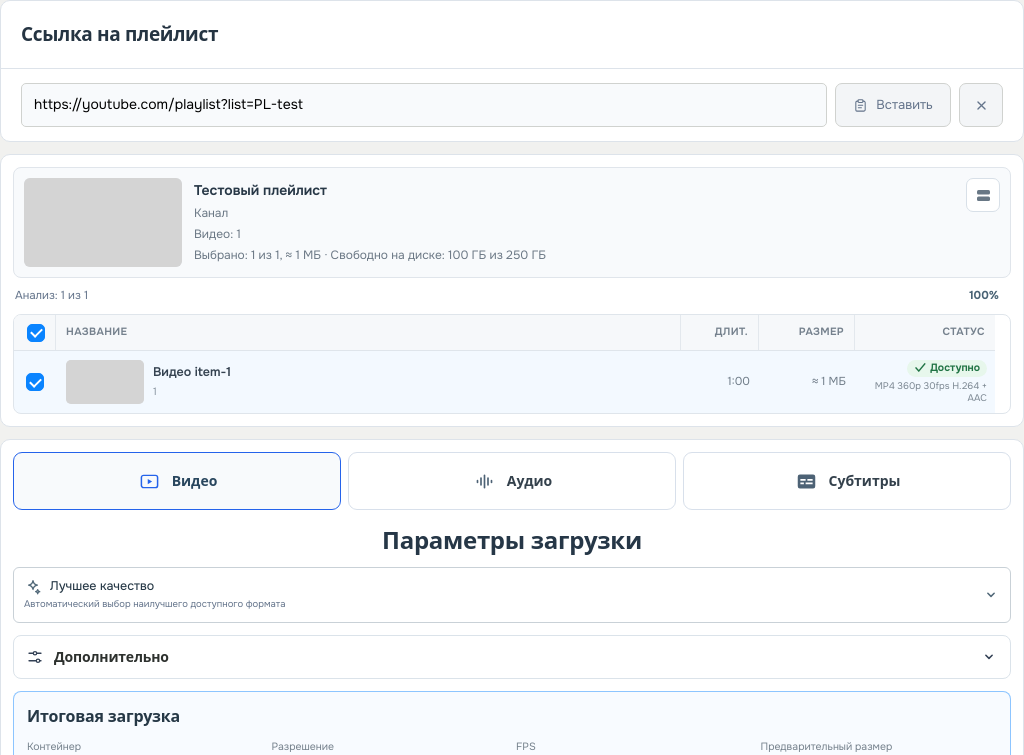
Test case: Playlist › applies adaptive matching to a named quality profile
Expected: the text "Доступно" is shown, left=930, top=361, right=980, bottom=374
Click the dropdown named "Профиль скачивания".
click(102, 586)  # box left=13, top=567, right=1011, bottom=623
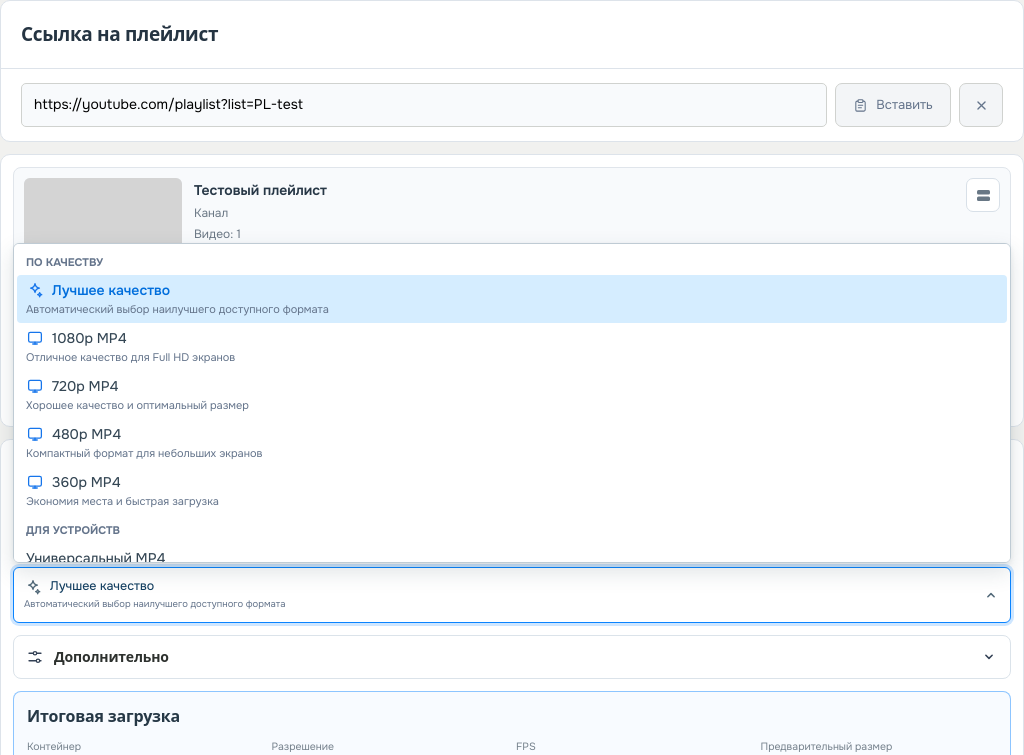
Click the text "480p MP4".
click(74, 434)  # box left=26, top=425, right=121, bottom=444
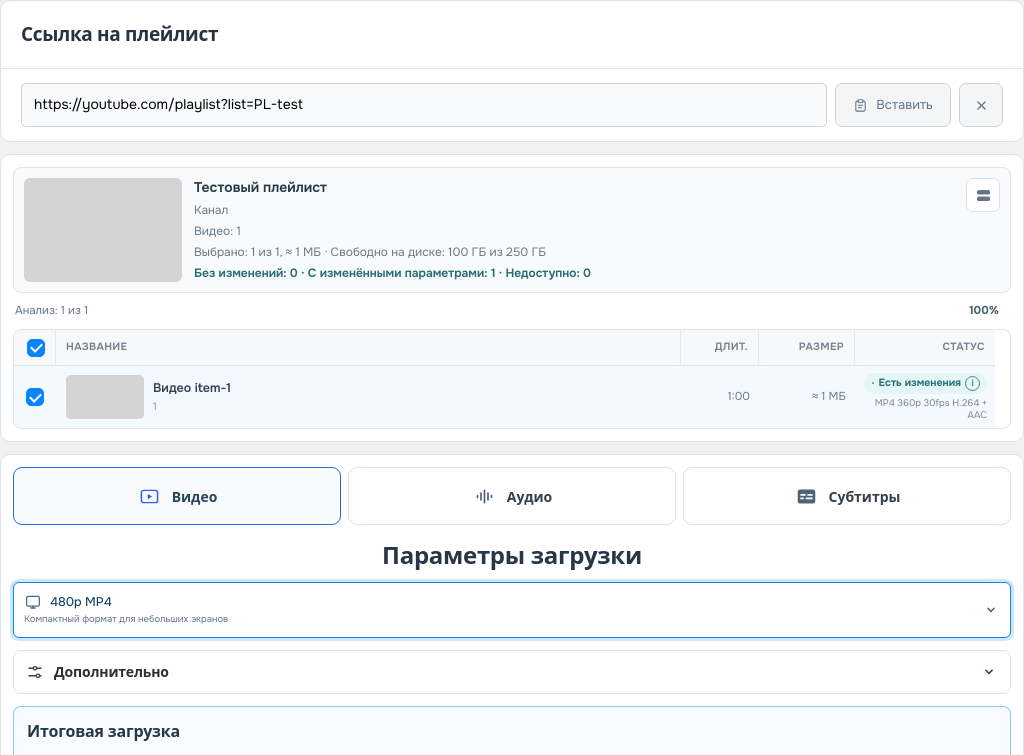
Result: the text "Есть изменения" is shown at left=878, top=376, right=961, bottom=389
Result: the text "Без изменений: 0 · С изменёнными параметрами: 1 · Недоступно: 0" is shown at left=194, top=265, right=591, bottom=281
Result: the picture named "Изменены параметры: 480p → 360p" is shown at left=965, top=376, right=980, bottom=391
